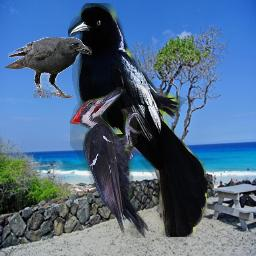Crow: (68, 3, 207, 237), (4, 37, 92, 98)
Woodpecker: (70, 87, 149, 238)
